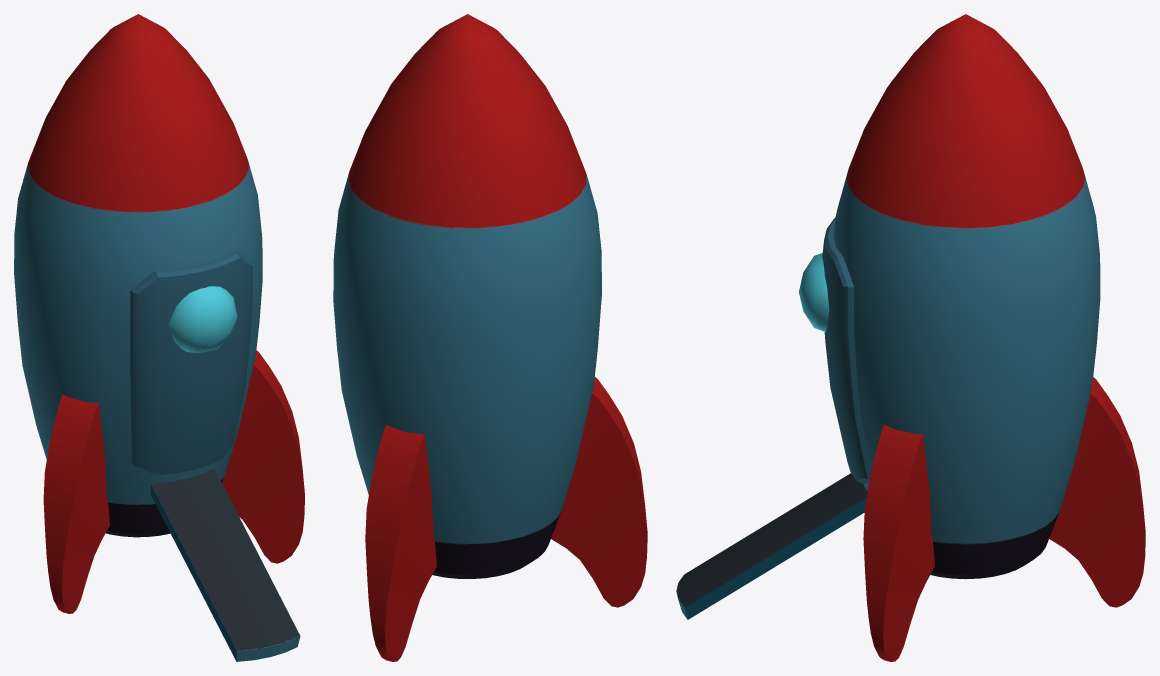
Rendered from rocket redov2.fbx.
The picture shows the model from 3 angles, left to right: view 1: azimuth 30°, elevation 25°; view 2: azimuth 150°, elevation 25°; view 3: azimuth 270°, elevation 25°; orthographic projection. The views are drawn at different scales.
Parts seen in each view (by area): view 1: body, fin left, fin right, glass; view 2: body, fin right, fin back; view 3: body, fin back, fin left, glass.
Part boxes in pixels (x1,y1,x2,y2): body: (14, 14, 300, 661); fin left: (222, 350, 304, 563); fin right: (43, 394, 109, 613); glass: (168, 286, 237, 353); body: (333, 14, 601, 578); fin right: (551, 377, 647, 607); fin back: (365, 425, 436, 661); body: (676, 14, 1100, 619); fin back: (1049, 377, 1145, 607); fin left: (863, 424, 934, 661); glass: (799, 253, 829, 331).
Size of the model in its own units: 190 by 385 by 277.
